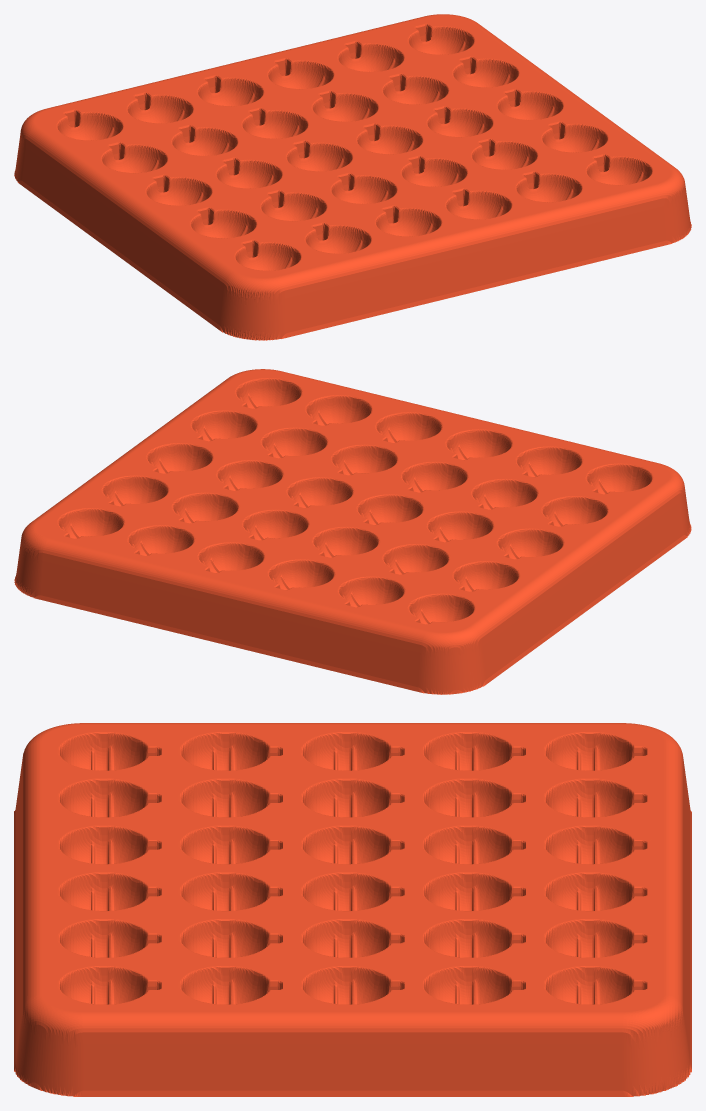
The model's file is mold.glb.
3 views of the same model, one above another, from view 1: azimuth 30°, elevation 25°; view 2: azimuth 150°, elevation 25°; view 3: azimuth 270°, elevation 25° (orthographic). The views are drawn at different scales.
Visible parts, largest first — view 1: geometry_0; view 2: geometry_0; view 3: geometry_0.
Part boxes in pixels (x1,y1,x2,y2): geometry_0: [14, 14, 691, 340]; geometry_0: [14, 369, 691, 694]; geometry_0: [14, 723, 691, 1096].
Bounding box in the file's own units: 0.0956 × 0.0105 × 0.0882.
